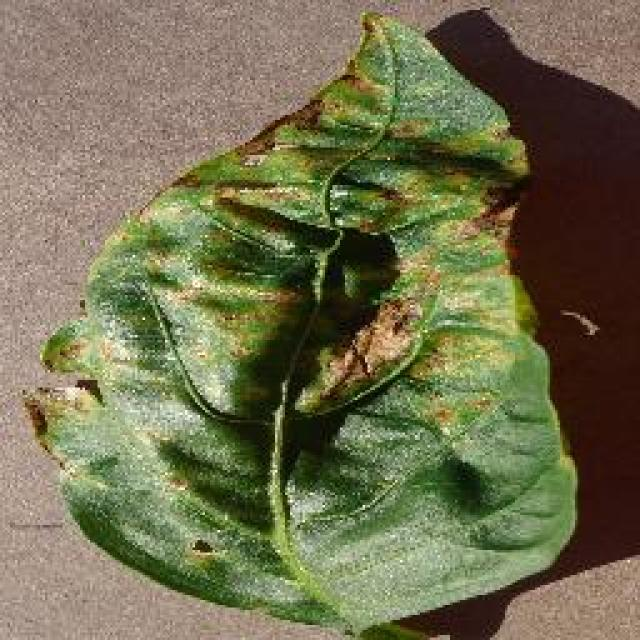Chilli_Bacterial_Spot: (20, 8, 582, 638), (35, 317, 90, 375), (178, 528, 228, 572), (18, 395, 50, 440), (185, 532, 217, 560), (355, 7, 385, 35)
